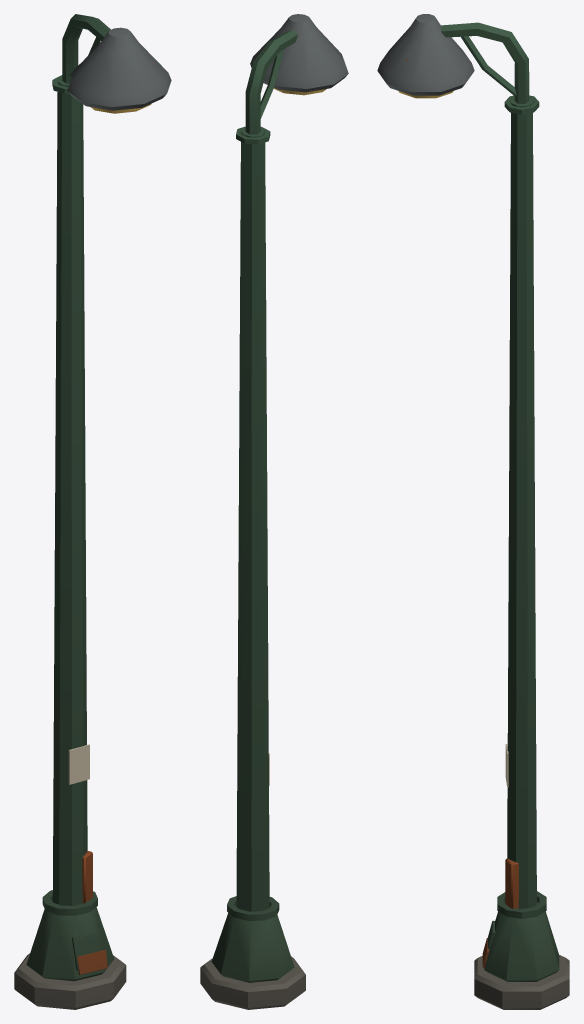
The model's file is 01_lampadaire.fbx.
3 views of the same model, side by side, from view 1: azimuth 30°, elevation 25°; view 2: azimuth 150°, elevation 25°; view 3: azimuth 270°, elevation 25° (orthographic). The views are drawn at different scales.
Visible parts, largest first — view 1: Poteau, TeteLampe; view 2: Poteau, TeteLampe; view 3: Poteau, TeteLampe.
Part boxes in pixels (box(x1,y1,x2,y2)): Poteau: box(14, 14, 126, 1009); TeteLampe: box(67, 27, 171, 110); Poteau: box(200, 30, 305, 1009); TeteLampe: box(250, 14, 348, 92); Poteau: box(441, 22, 569, 1009); TeteLampe: box(377, 14, 474, 95).
Bounding box in the file's own units: 0.392 × 4.06 × 0.728.
Materials: 1 (1 with a texture image).
